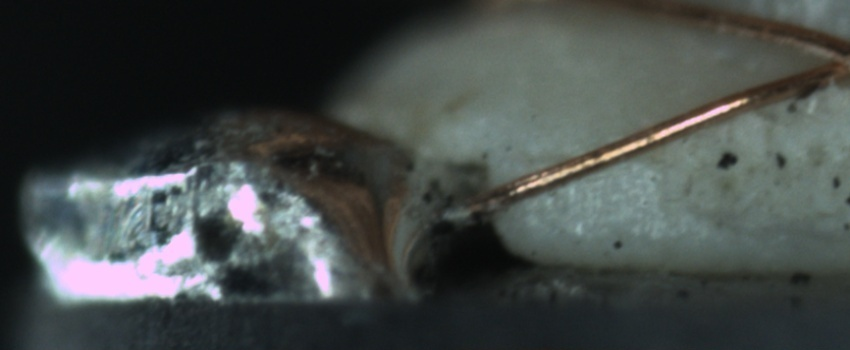CL: (798, 26, 849, 91)
